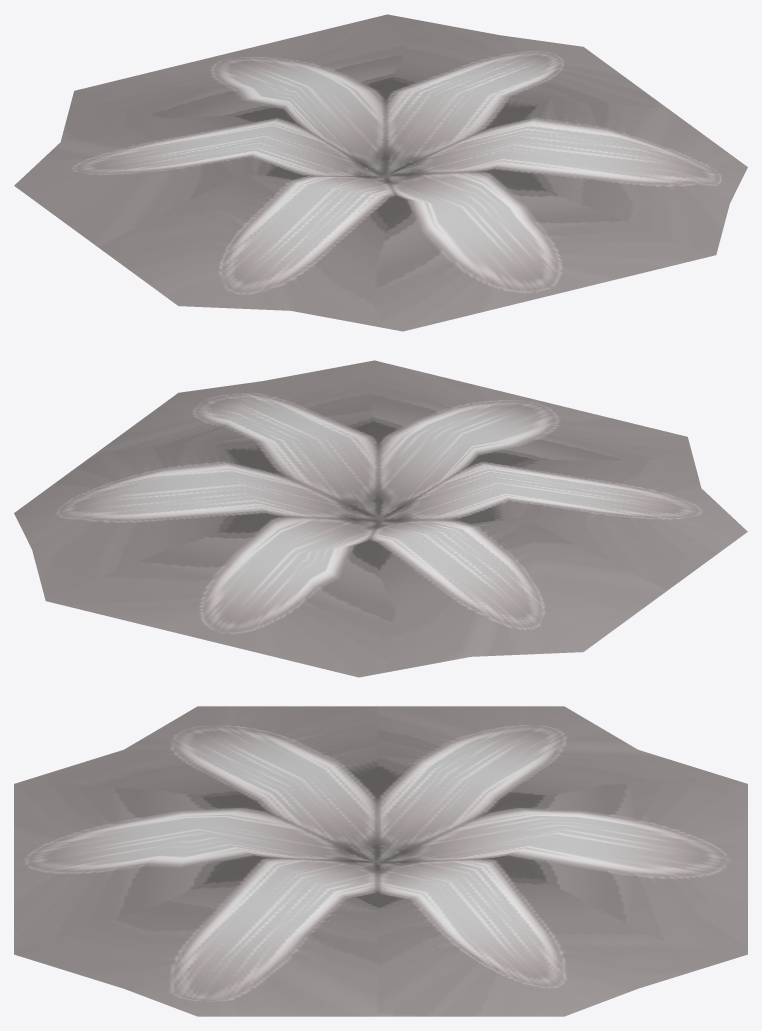
The model's file is Flower01_Art.fbx.
3 views of the same model, one above another, from view 1: azimuth 30°, elevation 25°; view 2: azimuth 150°, elevation 25°; view 3: azimuth 270°, elevation 25° (orthographic). The views are drawn at different scales.
Visible parts, largest first — view 1: Flower01_Art; view 2: Flower01_Art; view 3: Flower01_Art.
Part boxes in pixels (x1,y1,x2,y2): Flower01_Art: (14, 14, 747, 331); Flower01_Art: (14, 360, 747, 677); Flower01_Art: (14, 706, 747, 1016).
Bounding box in the file's own units: 0.6029 × 0.0375 × 0.6029.
